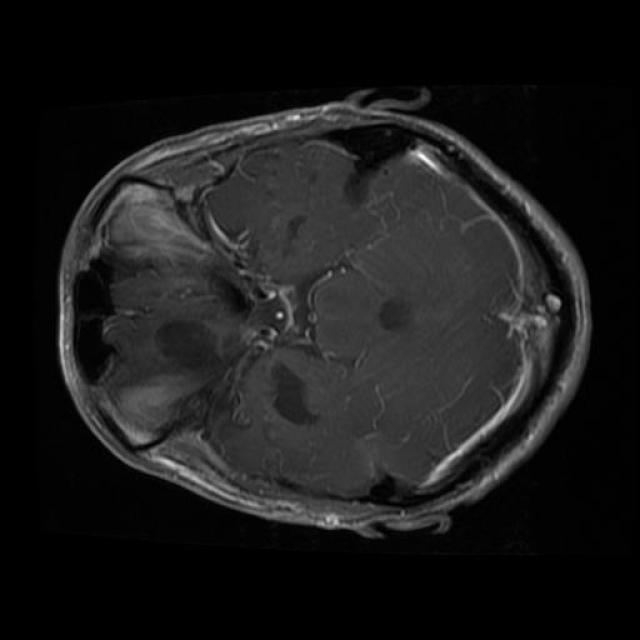Glioma: (272, 364, 313, 424)
